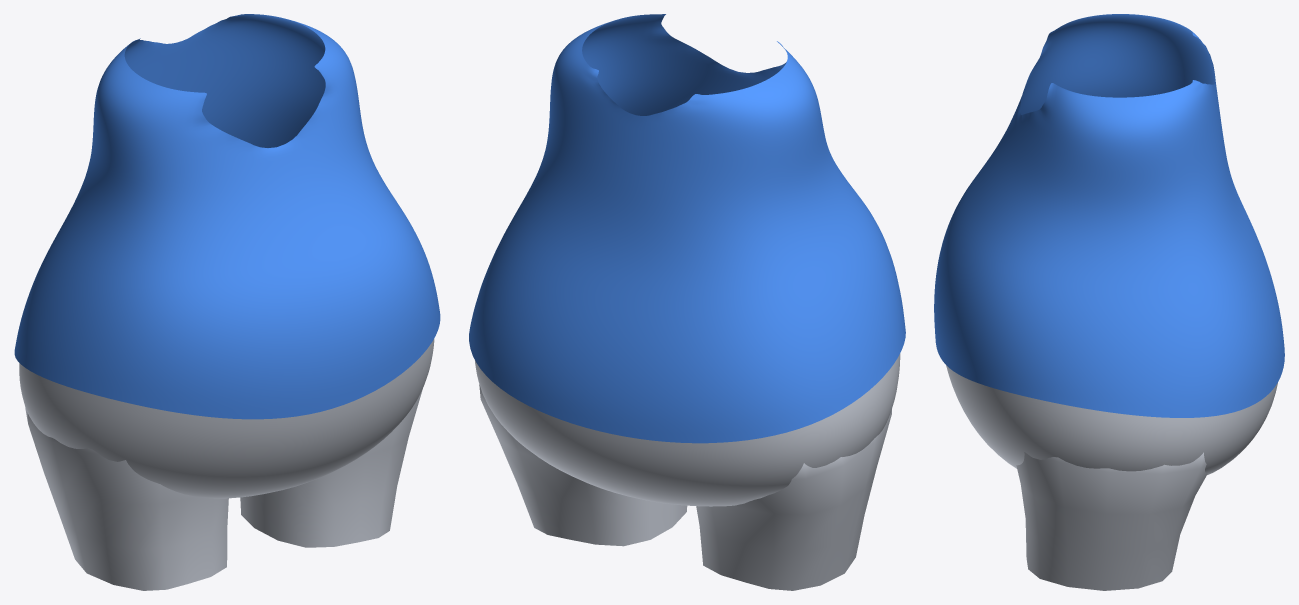
Rendered from Clothes.fbx.
3 renders of one model, left to right at view 1: azimuth 30°, elevation 25°; view 2: azimuth 150°, elevation 25°; view 3: azimuth 270°, elevation 25°, orthographic. The views are drawn at different scales.
Parts seen in each view (by area): view 1: Shirt, Short; view 2: Shirt, Short; view 3: Shirt, Short.
Boxes of the visible parts, box(x1,y1,x2,y2) form: Shirt: box(14, 14, 440, 419); Short: box(19, 339, 434, 590); Shirt: box(469, 14, 905, 443); Short: box(475, 353, 900, 590); Shirt: box(934, 14, 1284, 417); Short: box(946, 365, 1277, 590).
Bounding box in the file's own units: 266 × 324 × 221.
